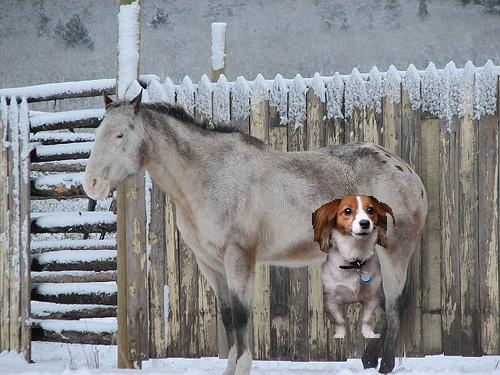tampered: (313, 196, 395, 338)
